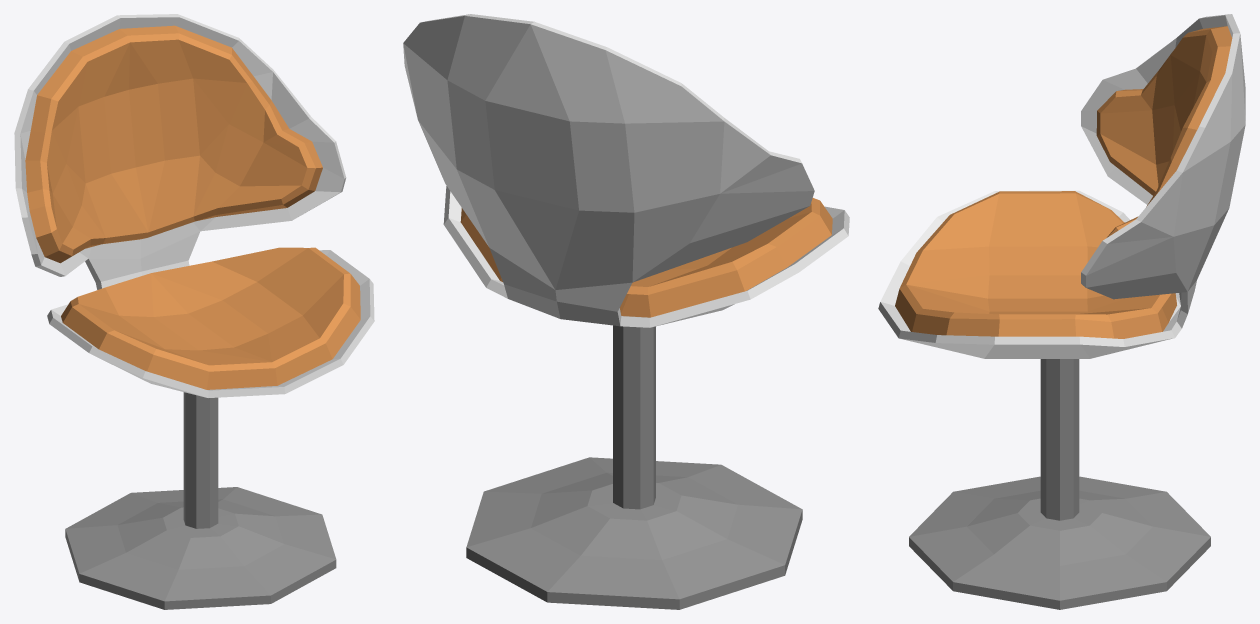
File: Int_Chair05_4.fbx
3 renders of one model, left to right at view 1: azimuth 30°, elevation 25°; view 2: azimuth 150°, elevation 25°; view 3: azimuth 270°, elevation 25°, orthographic. The views are drawn at different scales.
Visible parts, largest first — view 1: Int_Chair05_4; view 2: Int_Chair05_4; view 3: Int_Chair05_4.
Boxes of the visible parts, left/top/right/bottom form: Int_Chair05_4: left=14, top=14, right=374, bottom=609; Int_Chair05_4: left=403, top=14, right=849, bottom=609; Int_Chair05_4: left=878, top=14, right=1245, bottom=609.
Size of what is drawn, in the model's own units: 81.35 by 76.31 by 118.
